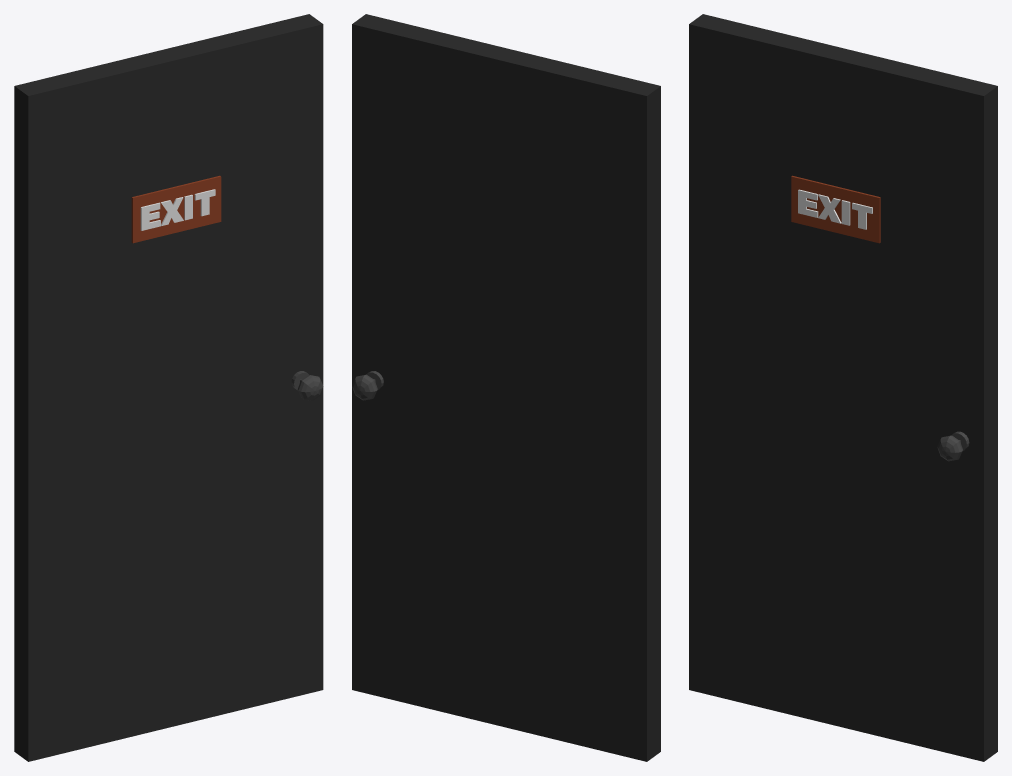
File: Door_01.fbx
3 renders of one model, left to right at view 1: azimuth 30°, elevation 25°; view 2: azimuth 150°, elevation 25°; view 3: azimuth 330°, elevation 25°, orthographic.
Visible parts, largest first — view 1: Door_01; view 2: Door_01; view 3: Door_01.
Part boxes in pixels (left/top/right/bottom): Door_01: left=14, top=14, right=323, bottom=761; Door_01: left=352, top=14, right=660, bottom=761; Door_01: left=689, top=14, right=997, bottom=761.
Bounding box in the file's own units: 98.87 × 213 × 25.41.
